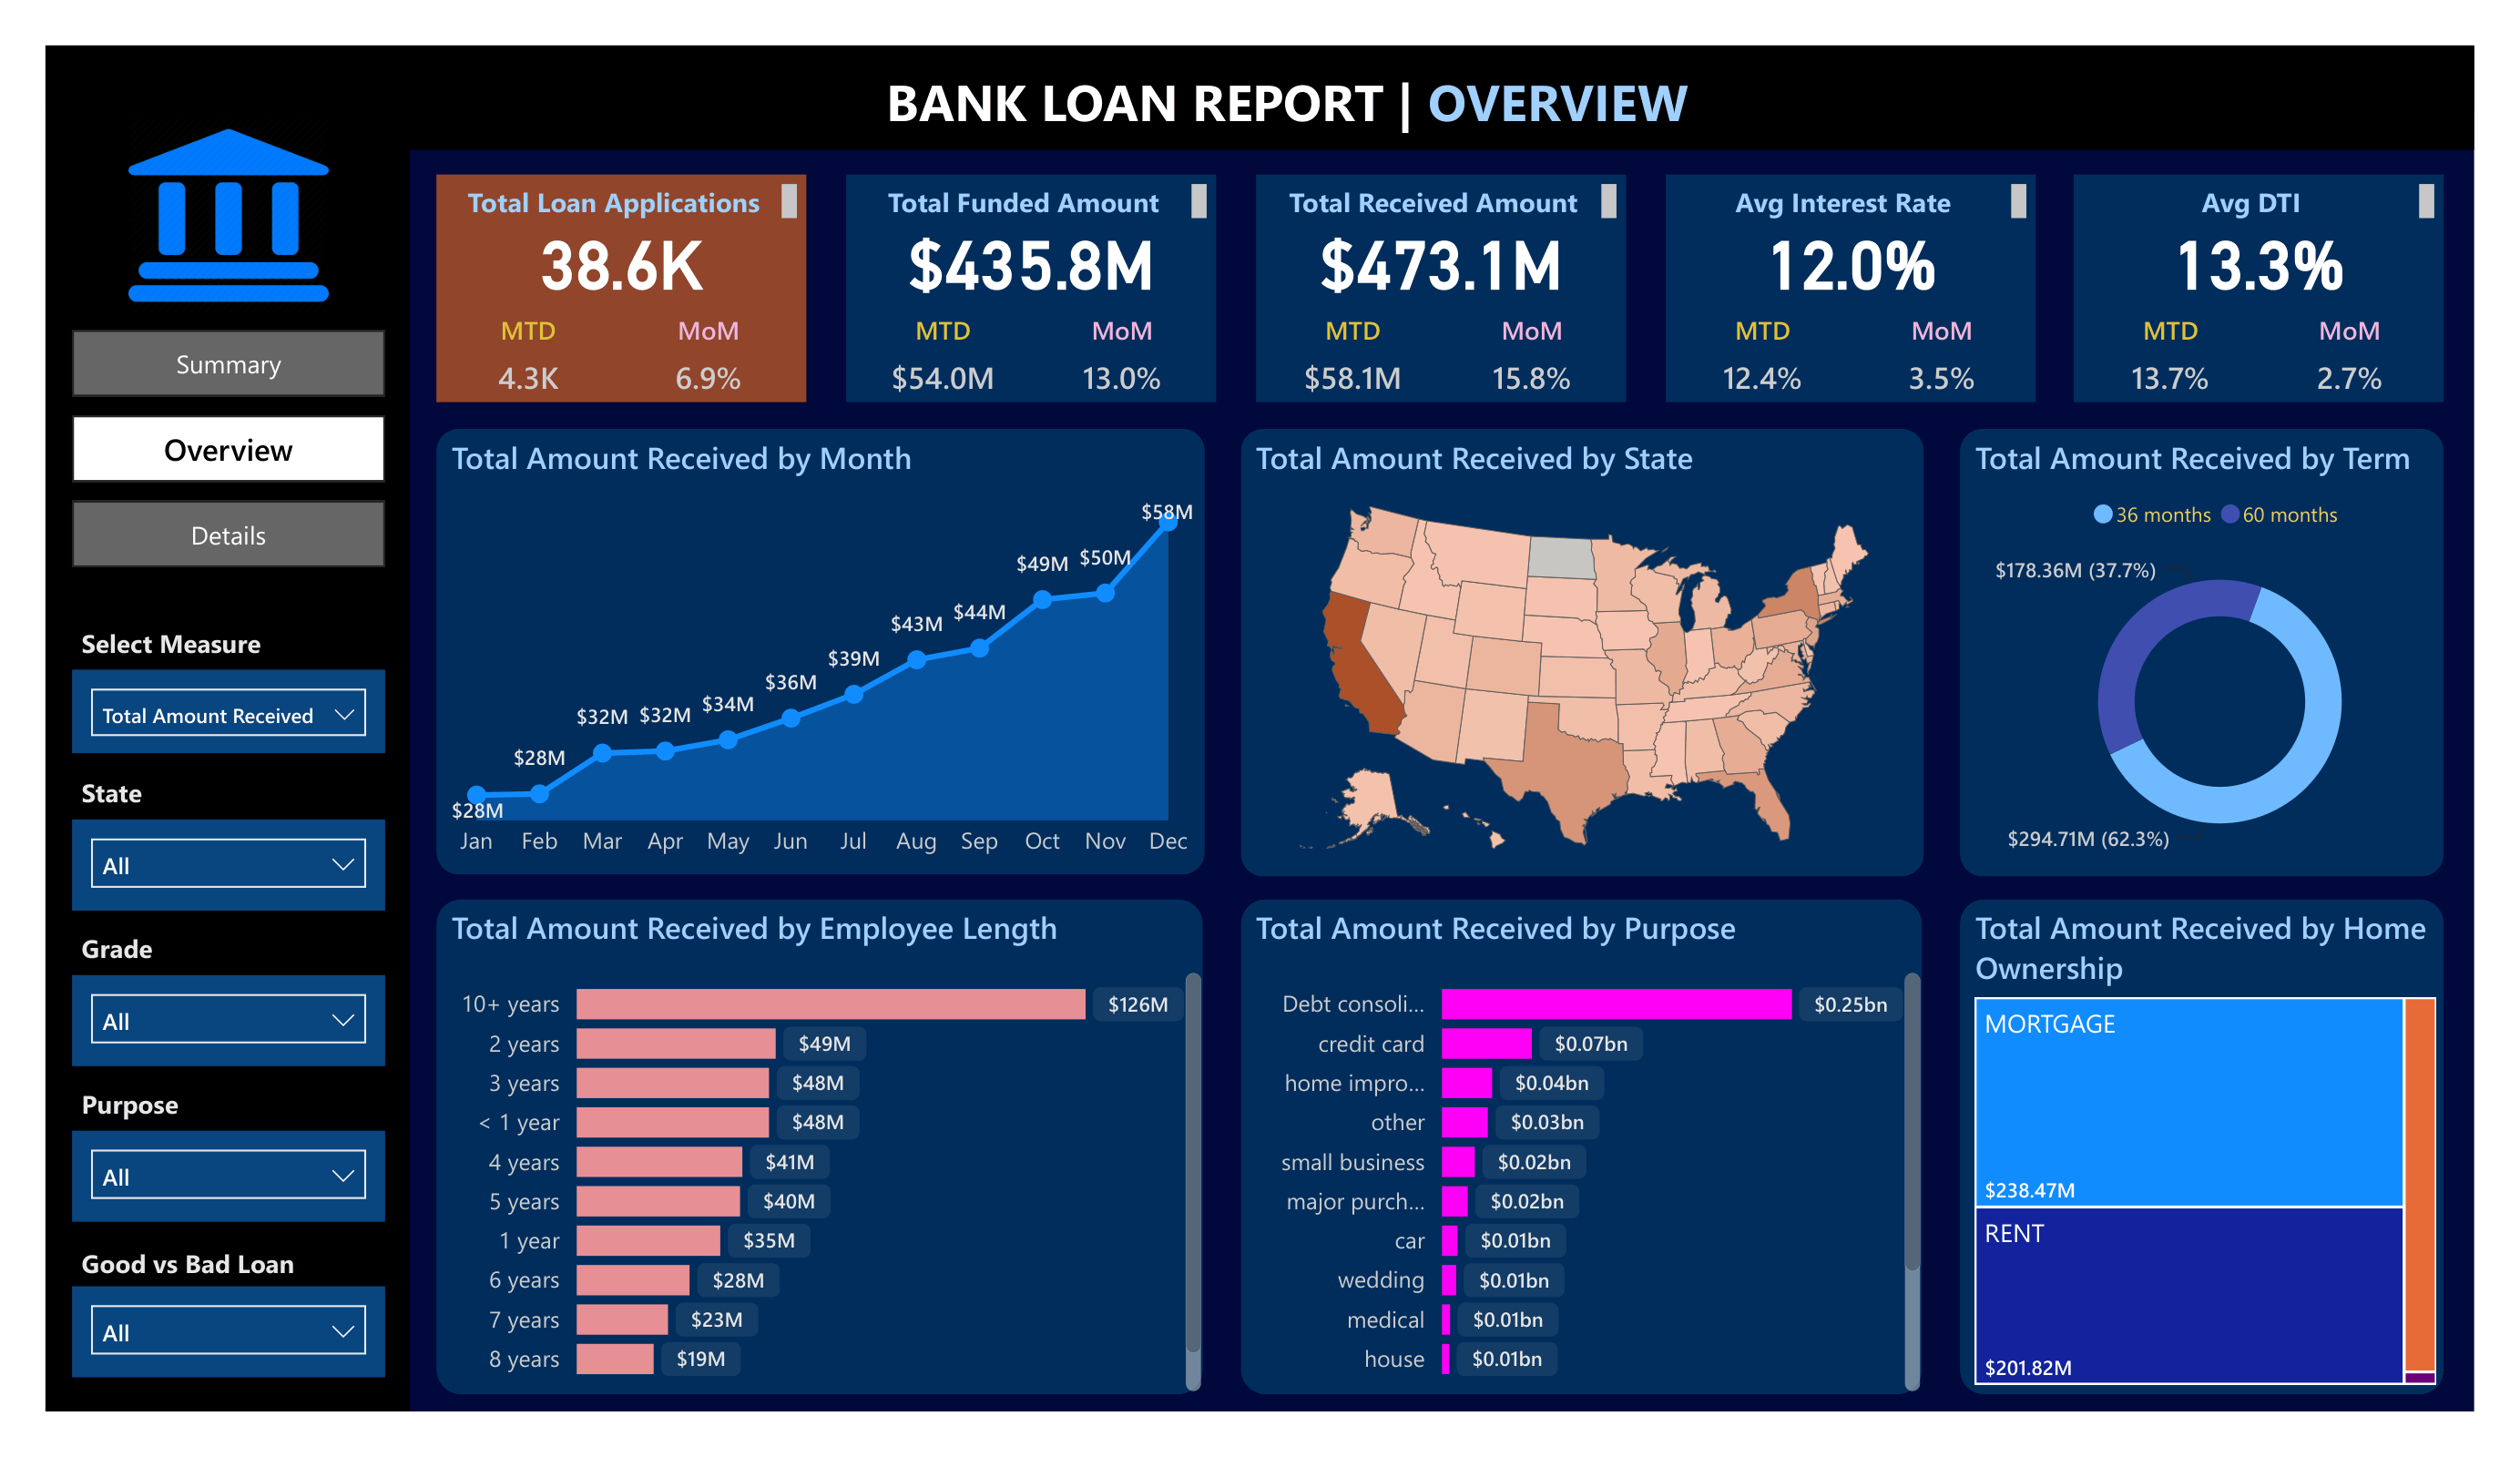

Layout of this report page (visuals, bound fields, positions):
{"tool":"powerbi","page":{"name":"Overview","canvas":[1280,720],"ordinal":1},"visuals":[{"type":"shape","box":[206,67.8,194.5,120],"z":0,"group":"g1"},{"type":"shape","box":[421.9,67.8,194.5,120],"z":0,"group":"g2"},{"type":"shape","box":[637.8,67.8,194.5,120],"z":0,"group":"g3"},{"type":"shape","box":[853.7,67.8,194.5,120],"z":0,"group":"g4"},{"type":"shape","box":[1069.3,67.8,194.5,120],"z":0,"group":"g5"},{"type":"shape","box":[205.9,202.4,405,235],"z":0},{"type":"shape","box":[0,0,1279.6,55],"z":1000},{"type":"cardVisual","fields":{"Data":["New Measures.Total Loan Applications"]},"box":[206,91.3,194.5,46.1],"z":1000,"group":"g1"},{"type":"cardVisual","fields":{"Data":["New Measures.Total Funded Amount"]},"box":[421.9,91.3,194.5,46.1],"z":1000,"group":"g2"},{"type":"cardVisual","fields":{"Data":["New Measures.Total Amount Received"]},"box":[637.8,91.3,194.5,46.1],"z":1000,"group":"g3"},{"type":"cardVisual","fields":{"Data":["New Measures.Avg Interest Rate"]},"box":[853.7,91.3,194.5,46.1],"z":1000,"group":"g4"},{"type":"cardVisual","fields":{"Data":["New Measures.Avg DTI"]},"box":[1069.3,91.3,194.5,46.1],"z":1000,"group":"g5"},{"type":"shape","box":[0,53.7,192,666.1],"z":2000},{"type":"textbox","box":[206,67.8,194.5,28.2],"z":2000,"group":"g1"},{"type":"textbox","box":[421.9,67.8,194.5,28.2],"z":2000,"group":"g2"},{"type":"textbox","box":[637.8,67.8,194.5,28.2],"z":2000,"group":"g3"},{"type":"textbox","box":[853.7,67.8,194.5,28.2],"z":2000,"group":"g4"},{"type":"textbox","box":[1069.3,67.8,194.5,28.2],"z":2000,"group":"g5"},{"type":"textbox","box":[437.6,5.7,443.3,49.1],"z":3000},{"type":"cardVisual","title":"MTD","fields":{"Data":["New Measures.MTD Loan Applications"]},"box":[223.9,140.7,61.4,47.3],"z":3000,"group":"g1"},{"type":"cardVisual","title":"MTD","fields":{"Data":["New Measures.MTD Funded Amount"]},"box":[439.8,140.7,66.5,47.3],"z":3000,"group":"g2"},{"type":"cardVisual","title":"MTD","fields":{"Data":["New Measures.MTD Total Amount Received"]},"box":[655.7,140.7,66.5,47.3],"z":3000,"group":"g3"},{"type":"cardVisual","title":"MTD","fields":{"Data":["New Measures.MTD Interest Rate"]},"box":[871.6,140.7,66.5,47.3],"z":3000,"group":"g4"},{"type":"cardVisual","title":"MTD","fields":{"Data":["New Measures.MTD Avg DTI"]},"box":[1087.2,140.7,66.5,47.3],"z":3000,"group":"g5"},{"type":"group","id":"g1","title":"Group 1","box":[206,67.8,194.5,120.3],"z":4000},{"type":"cardVisual","title":"MoM","fields":{"Data":["New Measures.MoM Loan Applications"]},"box":[318.6,140.7,61.4,47.3],"z":4000,"group":"g1"},{"type":"cardVisual","title":"MoM","fields":{"Data":["New Measures.MoM Total Funded Amount"]},"box":[534.5,140.7,65,47.3],"z":4000,"group":"g2"},{"type":"cardVisual","title":"MoM","fields":{"Data":["New Measures.MoM Total Amount Received"]},"box":[750.4,140.7,65,47.3],"z":4000,"group":"g3"},{"type":"cardVisual","title":"MoM","fields":{"Data":["New Measures.MoM Avg Interest Rate"]},"box":[966.3,140.7,65,47.3],"z":4000,"group":"g4"},{"type":"cardVisual","title":"MoM","fields":{"Data":["New Measures.MoM Avg DTI"]},"box":[1181.9,140.7,65,47.3],"z":4000,"group":"g5"},{"type":"group","id":"g2","title":"Group 1","box":[421.9,67.8,194.5,120.3],"z":5000},{"type":"group","id":"g3","title":"Group 1","box":[637.8,67.8,194.5,120.3],"z":6000},{"type":"group","id":"g4","title":"Group 1","box":[853.7,67.8,194.2,119.3],"z":7000},{"type":"group","id":"g5","title":"Group 1","box":[1069.3,67.8,194.2,119.3],"z":8000},{"type":"slicer","fields":{"Values":["bank_loan_data.address_state"]},"box":[14.2,407.7,164.5,48],"z":9000},{"type":"textbox","box":[14.2,380.2,82.3,32],"z":10000},{"type":"slicer","fields":{"Values":["bank_loan_data.grade"]},"box":[14.2,489.8,164.5,48],"z":11000},{"type":"textbox","box":[14.2,462.4,82.3,32],"z":12000},{"type":"slicer","fields":{"Values":["bank_loan_data.purpose"]},"box":[14.2,572,164.5,48],"z":13000},{"type":"textbox","box":[14.2,544.4,82.3,32],"z":14000},{"type":"areaChart","fields":{"Y":["New Measures.Total Amount Received"],"Category":["Date Table.Month"]},"box":[209.1,205.7,401,231.9],"z":15000},{"type":"slicer","fields":{"Values":["Select Measure.Select Measure"]},"box":[14.2,328.6,164.5,44],"z":16000},{"type":"textbox","box":[14.2,301.2,108.5,32],"z":17000},{"type":"shape","box":[629.6,202.2,360,235.4],"z":18000},{"type":"shapeMap","fields":{"Value":["New Measures.Total Amount Received"],"Category":["bank_loan_data.address_state"]},"box":[633,205.7,356.5,231.9],"z":19000},{"type":"shape","box":[1008.9,202.2,254.8,235.4],"z":20000},{"type":"donutChart","fields":{"Y":["New Measures.Total Amount Received"],"Category":["bank_loan_data.term"]},"box":[1012.3,205.7,267.4,231.9],"z":21000},{"type":"shape","box":[205.7,450,404.5,261],"z":22000},{"type":"barChart","fields":{"Y":["New Measures.Total Amount Received"],"Category":["bank_loan_data.emp_length"]},"box":[209.1,453.6,404.5,260.5],"z":23000},{"type":"shape","box":[629.6,450.2,359.9,260.5],"z":24000},{"type":"barChart","fields":{"Y":["New Measures.Total Amount Received"],"Category":["bank_loan_data.purpose"]},"box":[633,453.6,359.9,260.5],"z":25000},{"type":"shape","box":[1008.9,450.2,254.8,260.5],"z":26000},{"type":"treemap","fields":{"Values":["New Measures.Total Amount Received"],"Group":["bank_loan_data.home_ownership"]},"box":[1012.3,453.6,253,257.1],"z":27000},{"type":"slicer","fields":{"Values":["bank_loan_data.Good vs Bad Loan"]},"box":[14.2,654.2,164.5,48],"z":28000},{"type":"textbox","box":[14.2,627.9,128,30.8],"z":29000},{"type":"image","box":[43.8,29.5,105.2,120.5],"z":30000},{"type":"pageNavigator","box":[14.2,150,164.3,126],"z":31000}]}

Visuals, with their boxes on the page's 1280x720 design canvas (x1, y1, x2, y2). These are canvas units, not pixel positions in the 2520x1457 screenshot, which may show the page scaled, cropped or inside an application window:
shape: Rect(206, 68, 400, 188)
shape: Rect(422, 68, 616, 188)
shape: Rect(638, 68, 832, 188)
shape: Rect(854, 68, 1048, 188)
shape: Rect(1069, 68, 1264, 188)
shape: Rect(206, 202, 611, 437)
shape: Rect(0, 0, 1280, 55)
cardVisual - New Measures.Total Loan Applications: Rect(206, 91, 400, 137)
cardVisual - New Measures.Total Funded Amount: Rect(422, 91, 616, 137)
cardVisual - New Measures.Total Amount Received: Rect(638, 91, 832, 137)
cardVisual - New Measures.Avg Interest Rate: Rect(854, 91, 1048, 137)
cardVisual - New Measures.Avg DTI: Rect(1069, 91, 1264, 137)
shape: Rect(0, 54, 192, 720)
textbox: Rect(206, 68, 400, 96)
textbox: Rect(422, 68, 616, 96)
textbox: Rect(638, 68, 832, 96)
textbox: Rect(854, 68, 1048, 96)
textbox: Rect(1069, 68, 1264, 96)
textbox: Rect(438, 6, 881, 55)
"MTD" cardVisual: Rect(224, 141, 285, 188)
"MTD" cardVisual: Rect(440, 141, 506, 188)
"MTD" cardVisual: Rect(656, 141, 722, 188)
"MTD" cardVisual: Rect(872, 141, 938, 188)
"MTD" cardVisual: Rect(1087, 141, 1154, 188)
"Group 1" group: Rect(206, 68, 400, 188)
"MoM" cardVisual: Rect(319, 141, 380, 188)
"MoM" cardVisual: Rect(534, 141, 600, 188)
"MoM" cardVisual: Rect(750, 141, 815, 188)
"MoM" cardVisual: Rect(966, 141, 1031, 188)
"MoM" cardVisual: Rect(1182, 141, 1247, 188)
"Group 1" group: Rect(422, 68, 616, 188)
"Group 1" group: Rect(638, 68, 832, 188)
"Group 1" group: Rect(854, 68, 1048, 187)
"Group 1" group: Rect(1069, 68, 1264, 187)
slicer - bank_loan_data.address_state: Rect(14, 408, 179, 456)
textbox: Rect(14, 380, 96, 412)
slicer - bank_loan_data.grade: Rect(14, 490, 179, 538)
textbox: Rect(14, 462, 96, 494)
slicer - bank_loan_data.purpose: Rect(14, 572, 179, 620)
textbox: Rect(14, 544, 96, 576)
areaChart - New Measures.Total Amount Received x Date Table.Month: Rect(209, 206, 610, 438)
slicer - Select Measure.Select Measure: Rect(14, 329, 179, 373)
textbox: Rect(14, 301, 123, 333)
shape: Rect(630, 202, 990, 438)
shapeMap - New Measures.Total Amount Received x bank_loan_data.address_state: Rect(633, 206, 990, 438)
shape: Rect(1009, 202, 1264, 438)
donutChart - New Measures.Total Amount Received x bank_loan_data.term: Rect(1012, 206, 1280, 438)
shape: Rect(206, 450, 610, 711)
barChart - New Measures.Total Amount Received x bank_loan_data.emp_length: Rect(209, 454, 614, 714)
shape: Rect(630, 450, 990, 711)
barChart - New Measures.Total Amount Received x bank_loan_data.purpose: Rect(633, 454, 993, 714)
shape: Rect(1009, 450, 1264, 711)
treemap - New Measures.Total Amount Received x bank_loan_data.home_ownership: Rect(1012, 454, 1265, 711)
slicer - bank_loan_data.Good vs Bad Loan: Rect(14, 654, 179, 702)
textbox: Rect(14, 628, 142, 659)
image: Rect(44, 30, 149, 150)
pageNavigator: Rect(14, 150, 178, 276)
